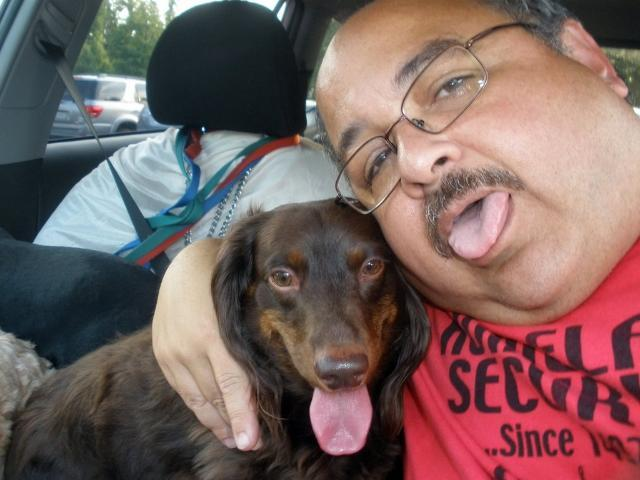SafeDriving: (424, 59, 480, 110)
Seatbelt: (40, 42, 170, 280)
